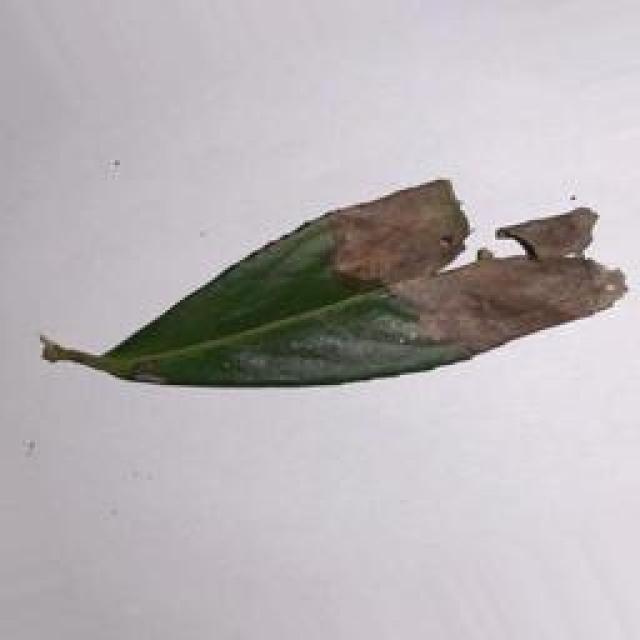Brown Blight: (35, 167, 640, 415)
